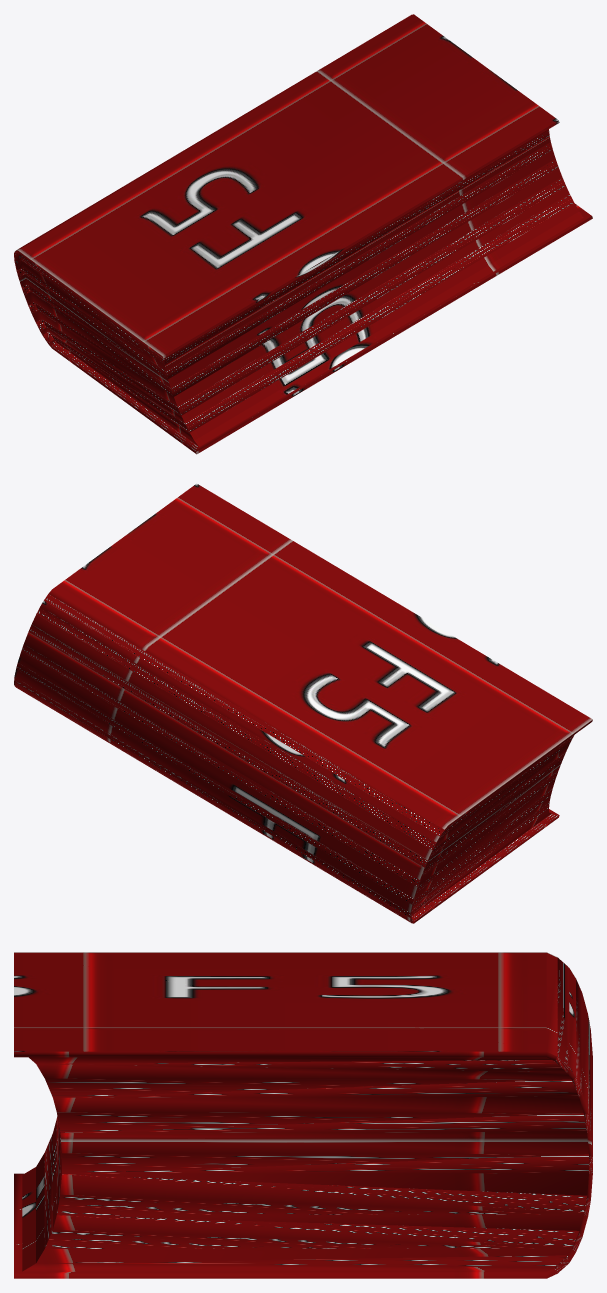
The model's file is KnjigaFive.fbx.
3 views of the same model, one above another, from view 1: azimuth 30°, elevation 25°; view 2: azimuth 150°, elevation 25°; view 3: azimuth 270°, elevation 25° (orthographic). The views are drawn at different scales.
Visible parts, largest first — view 1: book; view 2: book; view 3: book.
Boxes of the visible parts, x1,y1,x2,y2 form: book: (14,14,592,454); book: (14,483,592,923); book: (14,952,592,1278).
Bounding box in the file's own units: 16.43 × 8.97 × 10.39.
1 material, 1 textured.
